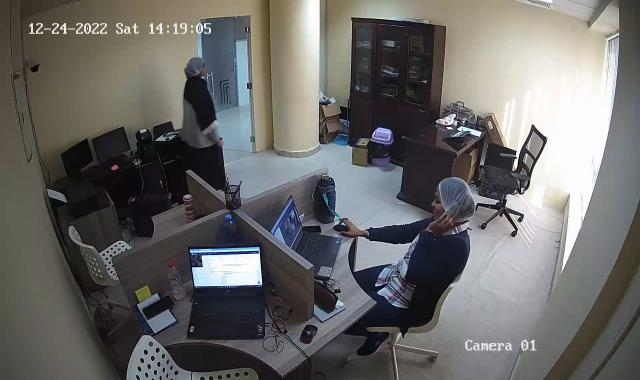hairnet: (438, 178, 475, 221), (186, 55, 206, 80)
